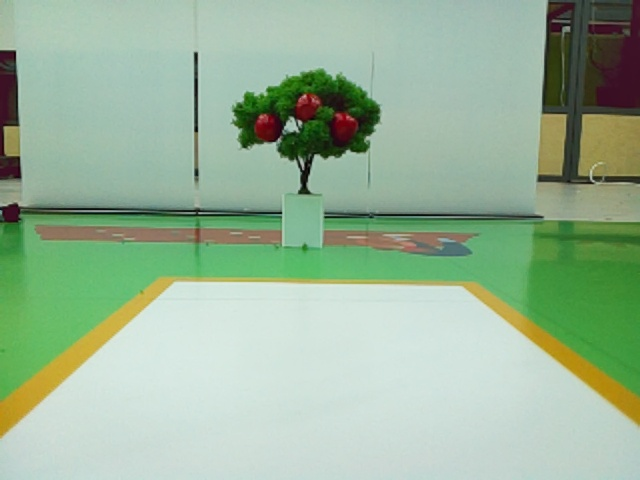apple: (296, 94, 322, 119), (334, 112, 358, 139), (255, 114, 275, 141)
